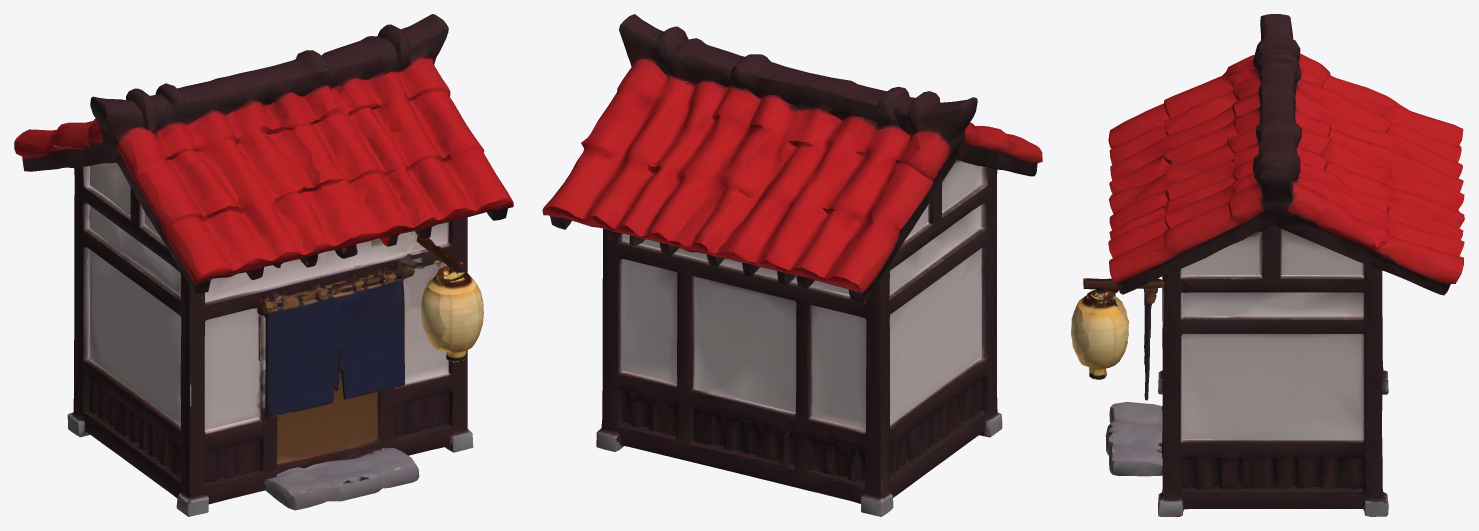
Rendered from onsen_house.glb.
3 renders of one model, left to right at view 1: azimuth 30°, elevation 25°; view 2: azimuth 150°, elevation 25°; view 3: azimuth 270°, elevation 25°, orthographic. The views are drawn at different scales.
Visible parts, largest first — view 1: onsen_house; view 2: onsen_house; view 3: onsen_house.
Part boxes in pixels (x1,y1,x2,y2): onsen_house: (14,14,513,516); onsen_house: (542,14,1042,516); onsen_house: (1071,14,1464,516).
Bounding box in the file's own units: 0.9474 × 1 × 0.9934.
Materials: 1 (1 with a texture image).
